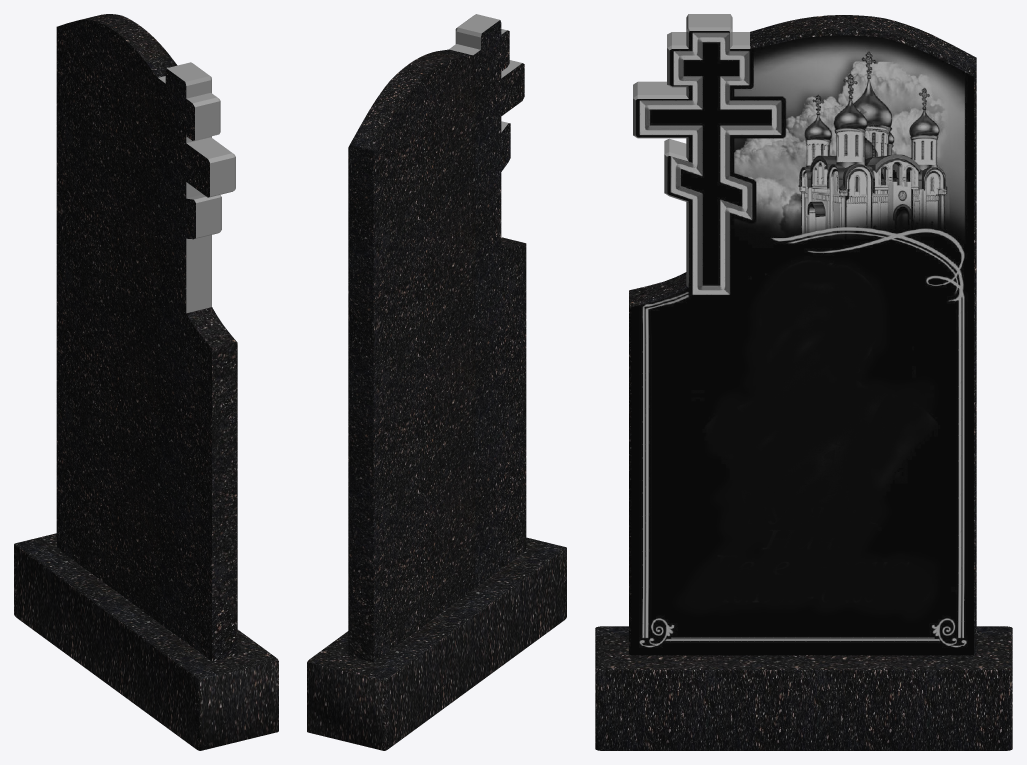
Rendered from Памятник Крест Храм [granite_1_orthodox] (100).glb.
3 renders of one model, left to right at view 1: azimuth 30°, elevation 25°; view 2: azimuth 150°, elevation 25°; view 3: azimuth 270°, elevation 25°, orthographic. The views are drawn at different scales.
Parts seen in each view (by area): view 1: Plane.001, Куб.004; view 2: Plane.001, Куб.004; view 3: Plane.001, Куб.004.
Part boxes in pixels (x1,y1,x2,y2): Plane.001: (56, 14, 237, 661); Куб.004: (14, 533, 278, 750); Plane.001: (348, 14, 526, 662); Куб.004: (307, 537, 566, 750); Plane.001: (629, 14, 976, 655); Куб.004: (595, 626, 1012, 750).
Size of the model in its own units: 0.15 by 1.12 by 0.6.
4 materials, 3 textured.
